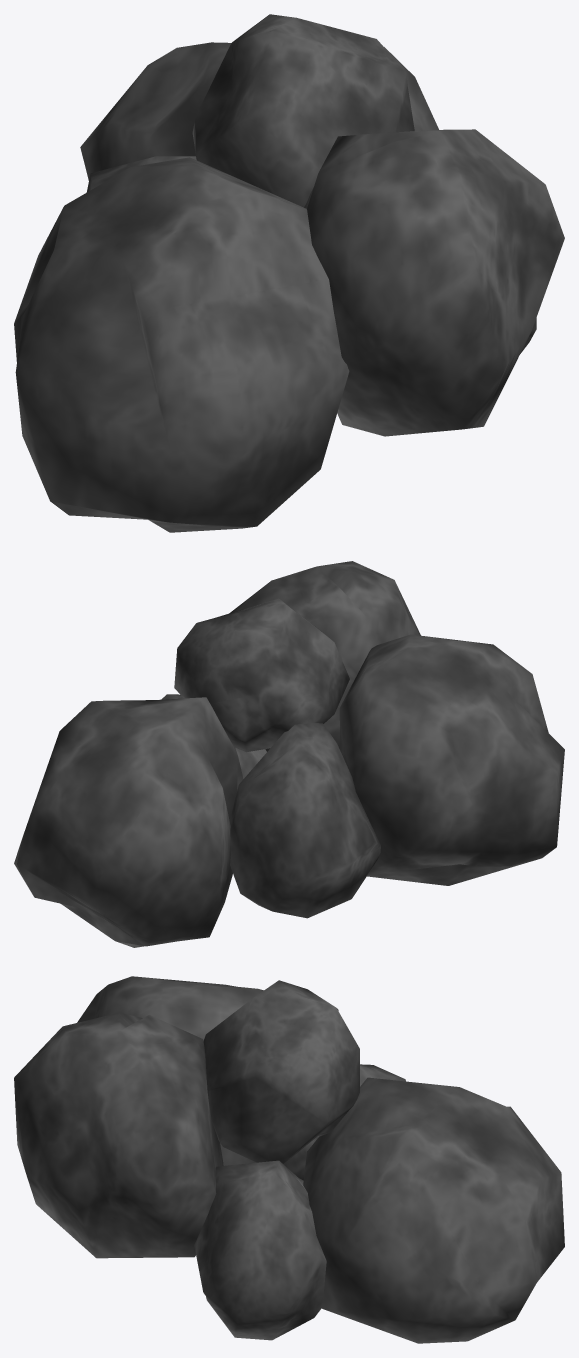
The model's file is rock.gltf.
3 renders of one model, top to bottom at view 1: azimuth 30°, elevation 25°; view 2: azimuth 150°, elevation 25°; view 3: azimuth 270°, elevation 25°, orthographic. The views are drawn at different scales.
Visible parts, largest first — view 1: rock; view 2: rock; view 3: rock.
Part boxes in pixels (x1=…): rock: x1=14, y1=14, x2=564, y2=532; rock: x1=14, y1=561, x2=564, y2=947; rock: x1=14, y1=976, x2=564, y2=1343.
Bounding box in the file's own units: 2.21 × 1.6 × 2.47.
Materials: 1 (1 with a texture image).
